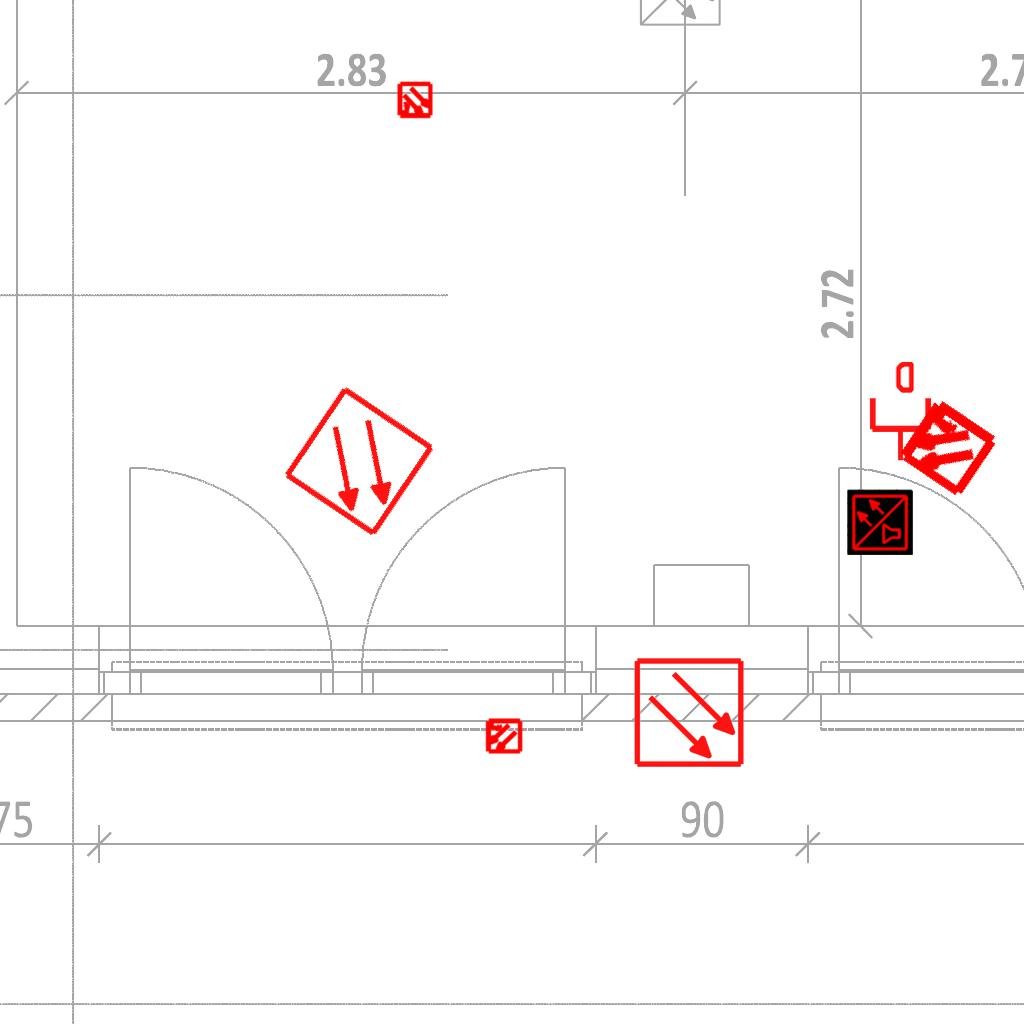Datenanschluss_einfach: (866, 362, 935, 462)
OKW_Multisensormelder_(Kombination_optischer_Rauch-Kahlenmonoxid_Waerme-Melder): (847, 489, 913, 555)
OT_Multisensormelder_(Kombination_RMO_WMD): (868, 368, 1024, 525), (387, 73, 443, 129), (475, 708, 531, 764)
RMO_Rauchmelder_optischer: (281, 383, 438, 540), (633, 656, 746, 769)
